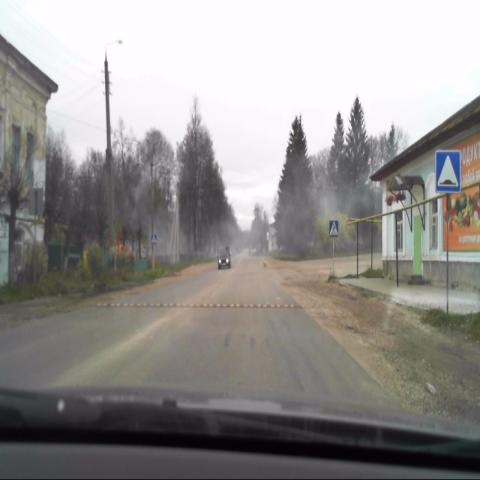5_20: (435, 152, 461, 194)
